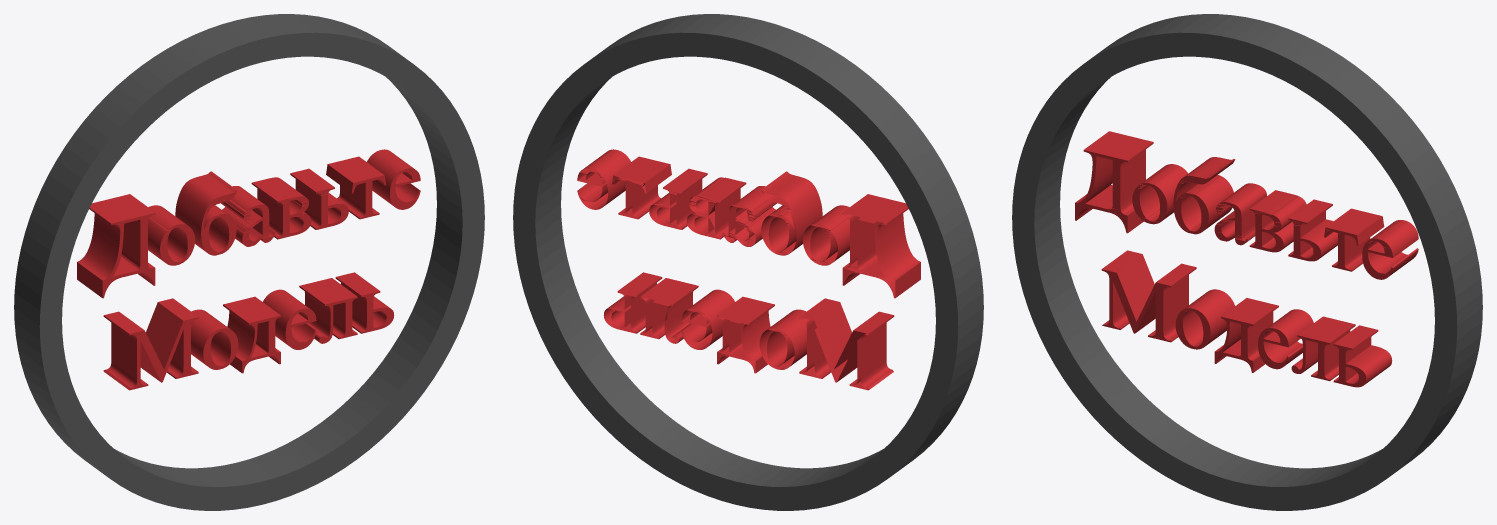
Rendered from defolt.obj.
3 renders of one model, left to right at view 1: azimuth 30°, elevation 25°; view 2: azimuth 150°, elevation 25°; view 3: azimuth 330°, elevation 25°, orthographic.
Parts seen in each view (by area): view 1: Цилиндр_Цилиндр.002, Текст; view 2: Цилиндр_Цилиндр.002, Текст; view 3: Цилиндр_Цилиндр.002, Текст.
Boxes of the visible parts, bbox=[...] form: Цилиндр_Цилиндр.002: bbox=[14, 14, 484, 510]; Текст: bbox=[77, 149, 420, 390]; Цилиндр_Цилиндр.002: bbox=[513, 14, 983, 510]; Текст: bbox=[577, 149, 920, 390]; Цилиндр_Цилиндр.002: bbox=[1012, 14, 1482, 510]; Текст: bbox=[1075, 131, 1418, 387].
Bounding box in the file's own units: 10 × 10 × 1.
